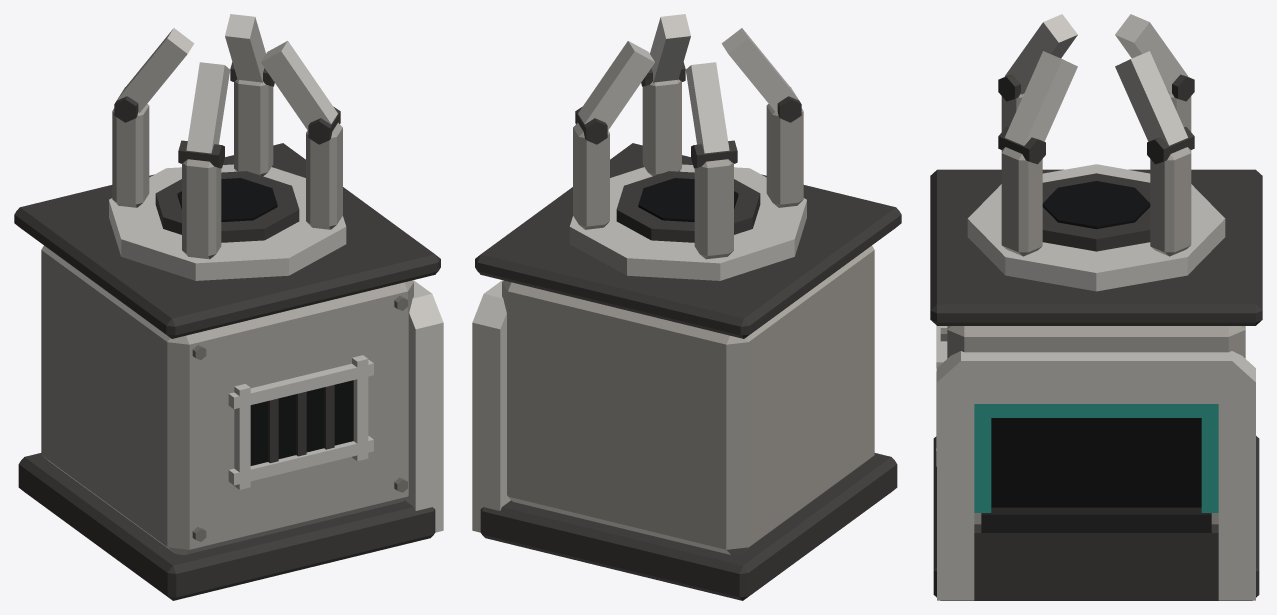
Rendered from extractor_empty.fbx.
The picture shows the model from 3 angles, left to right: view 1: azimuth 30°, elevation 25°; view 2: azimuth 150°, elevation 25°; view 3: azimuth 270°, elevation 25°; orthographic projection. The views are drawn at different scales.
Parts seen in each view (by area): view 1: extractor_empty; view 2: extractor_empty; view 3: extractor_empty.
Part boxes in pixels (x1,y1,x2,y2): extractor_empty: [14, 14, 443, 600]; extractor_empty: [472, 14, 901, 600]; extractor_empty: [930, 14, 1262, 600].
Size of the model in its own units: 2.97 by 4.87 by 2.94.
